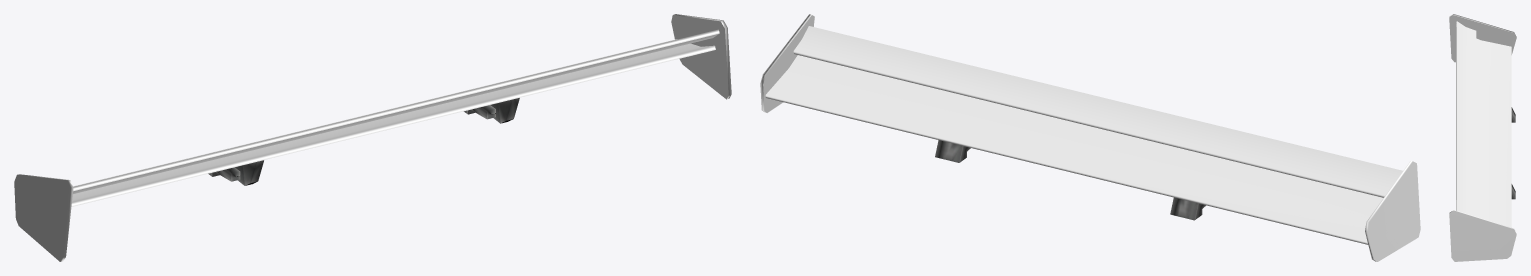
The model's file is spl_b_bbr_m.glb.
3 renders of one model, left to right at view 1: azimuth 30°, elevation 25°; view 2: azimuth 150°, elevation 25°; view 3: azimuth 270°, elevation 25°, orthographic. The views are drawn at different scales.
Parts seen in each view (by area): view 1: spl_b_bbr_m; view 2: spl_b_bbr_m; view 3: spl_b_bbr_m.
Boxes of the visible parts, <box> form: spl_b_bbr_m: <box>14,14,731,261</box>; spl_b_bbr_m: <box>760,14,1420,261</box>; spl_b_bbr_m: <box>1449,14,1516,261</box>.
Size of the model in its own units: 1.71 by 0.1975 by 0.2437.
Materials: 2 (2 with a texture image).
